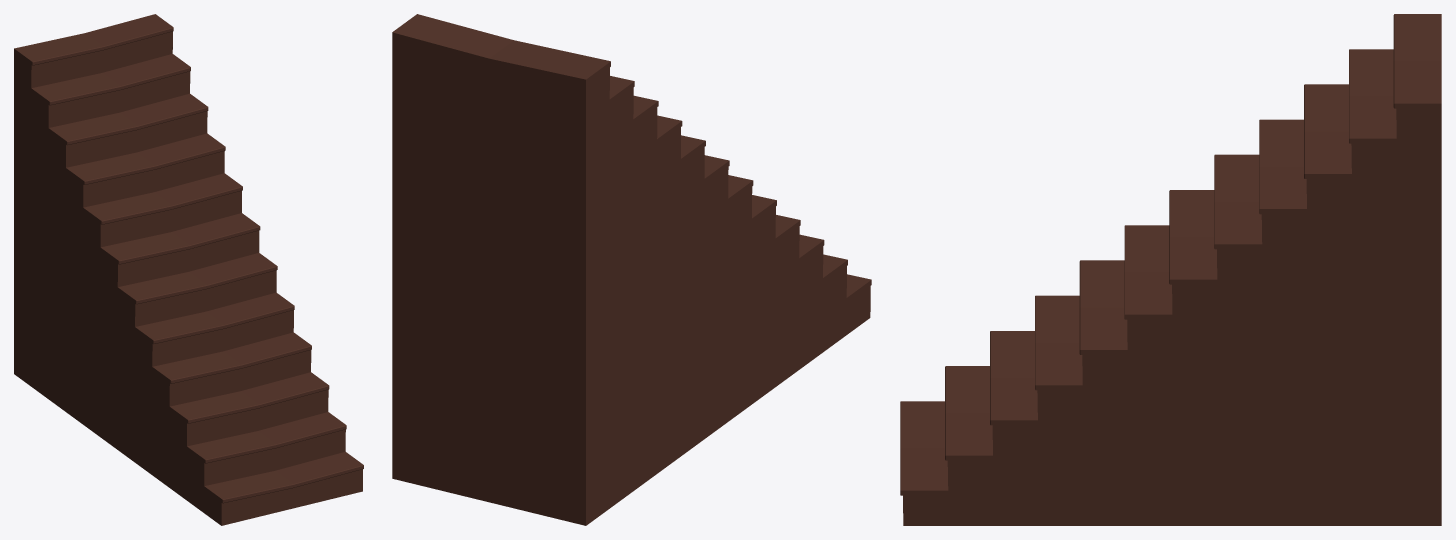
Rendered from staircase-a.glb.
3 renders of one model, left to right at view 1: azimuth 30°, elevation 25°; view 2: azimuth 150°, elevation 25°; view 3: azimuth 270°, elevation 25°, orthographic. The views are drawn at different scales.
Visible parts, largest first — view 1: Staircase A; view 2: Staircase A; view 3: Staircase A.
Part boxes in pixels (x1,y1,x2,y2): Staircase A: (14, 14, 363, 525); Staircase A: (392, 14, 871, 525); Staircase A: (900, 14, 1441, 525).
Bounding box in the file's own units: 1 × 2.2 × 2.56.
